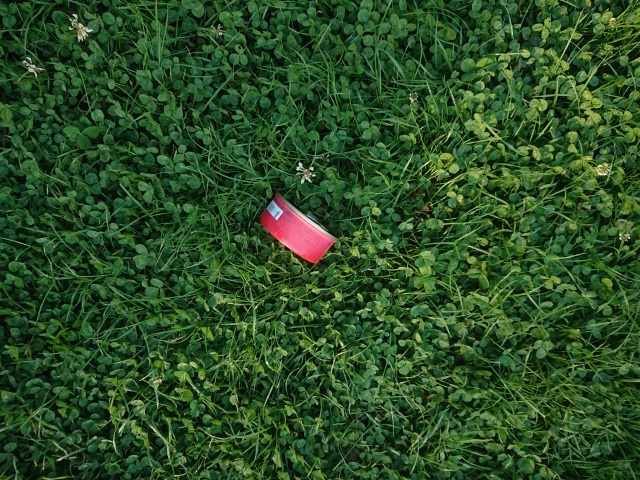Gavrilovic Pork Liver Pate 100g: (255, 189, 339, 266)
